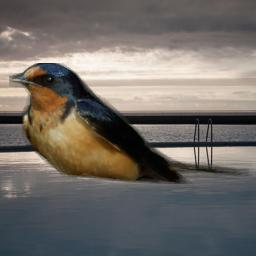Swallow: (9, 63, 252, 184)
